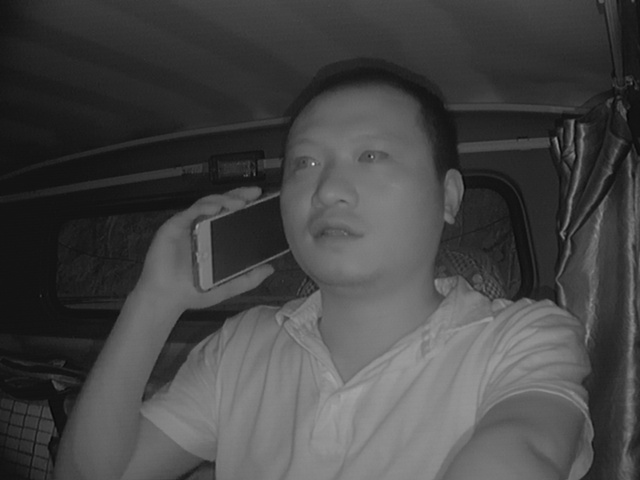hand: (150, 188, 271, 306)
